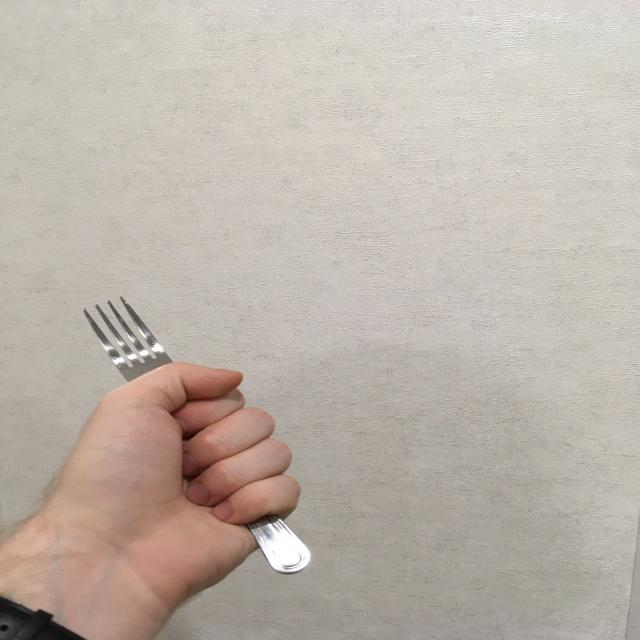fork: (79, 293, 314, 576)
